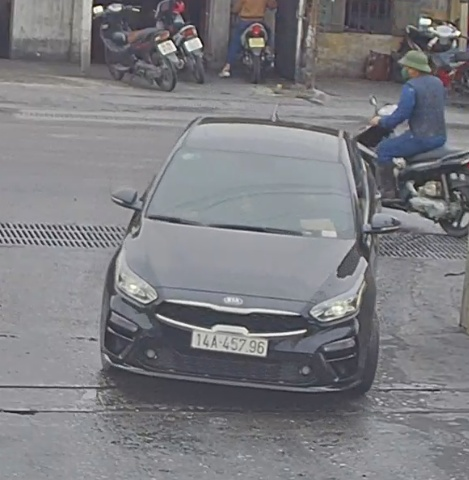vehicle plate: (187, 325, 270, 361)
